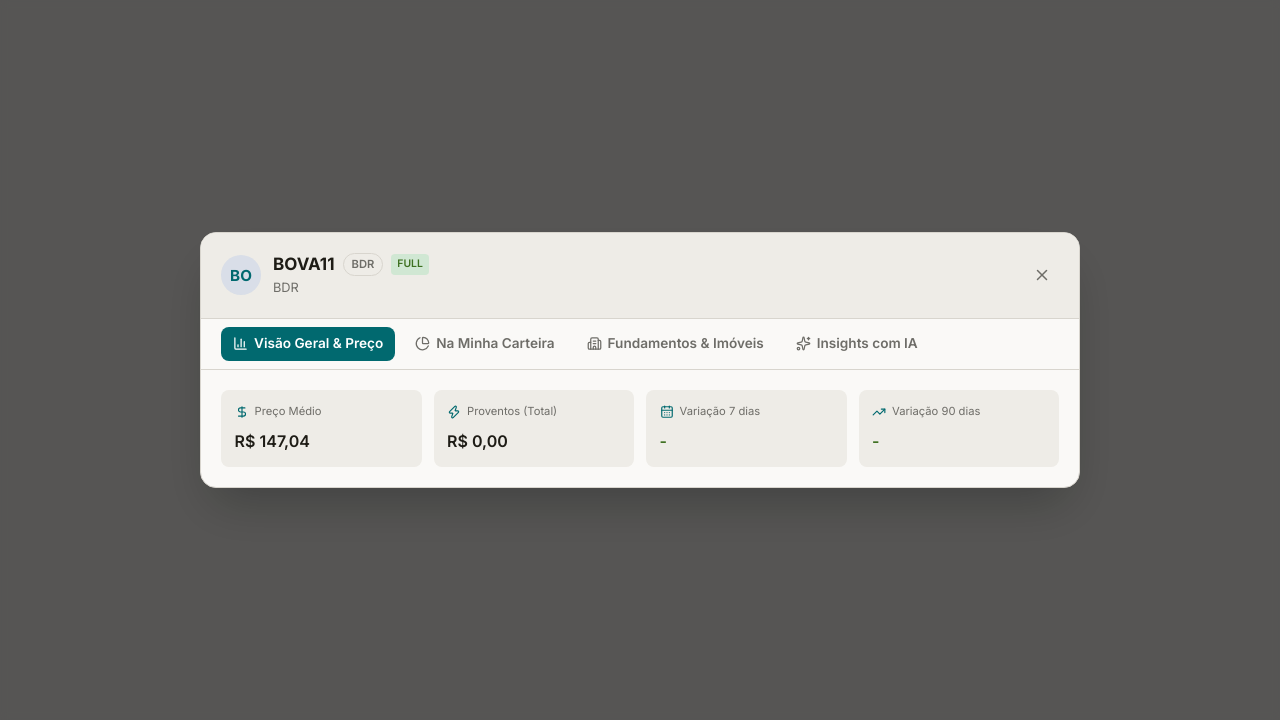
Test: AssetDetailDrawer corporate lifecycle › renderiza fundamentos específicos para ETF sem métricas irrelevantes de ações
Clica na aba Fundamentos
Click the button "Fundamentos & Imóveis": (675, 344) [575, 327, 776, 361]
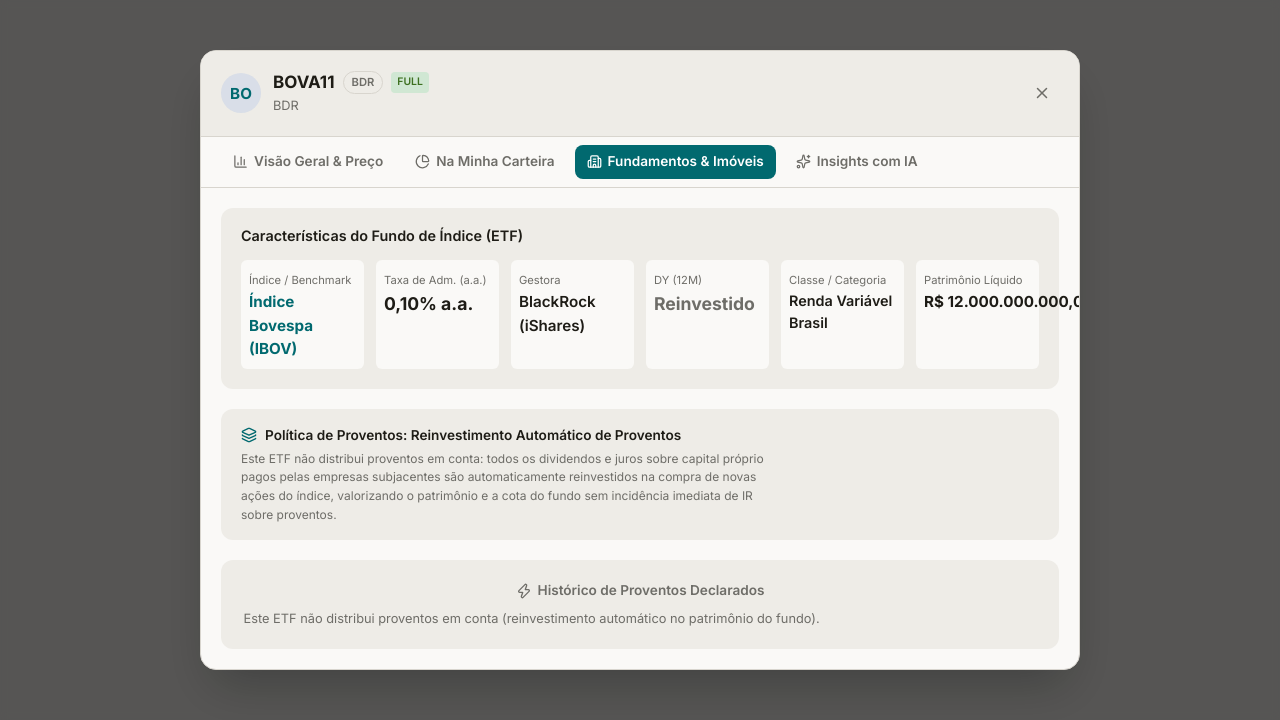
Expected: the heading "Características do Fundo de Índice (ETF)" is shown, [241, 227, 523, 244]
Expected: the text "Índice Bovespa (IBOV)" is shown, [249, 292, 313, 358]
Expected: the text "BlackRock (iShares)" is shown, [519, 292, 596, 335]
